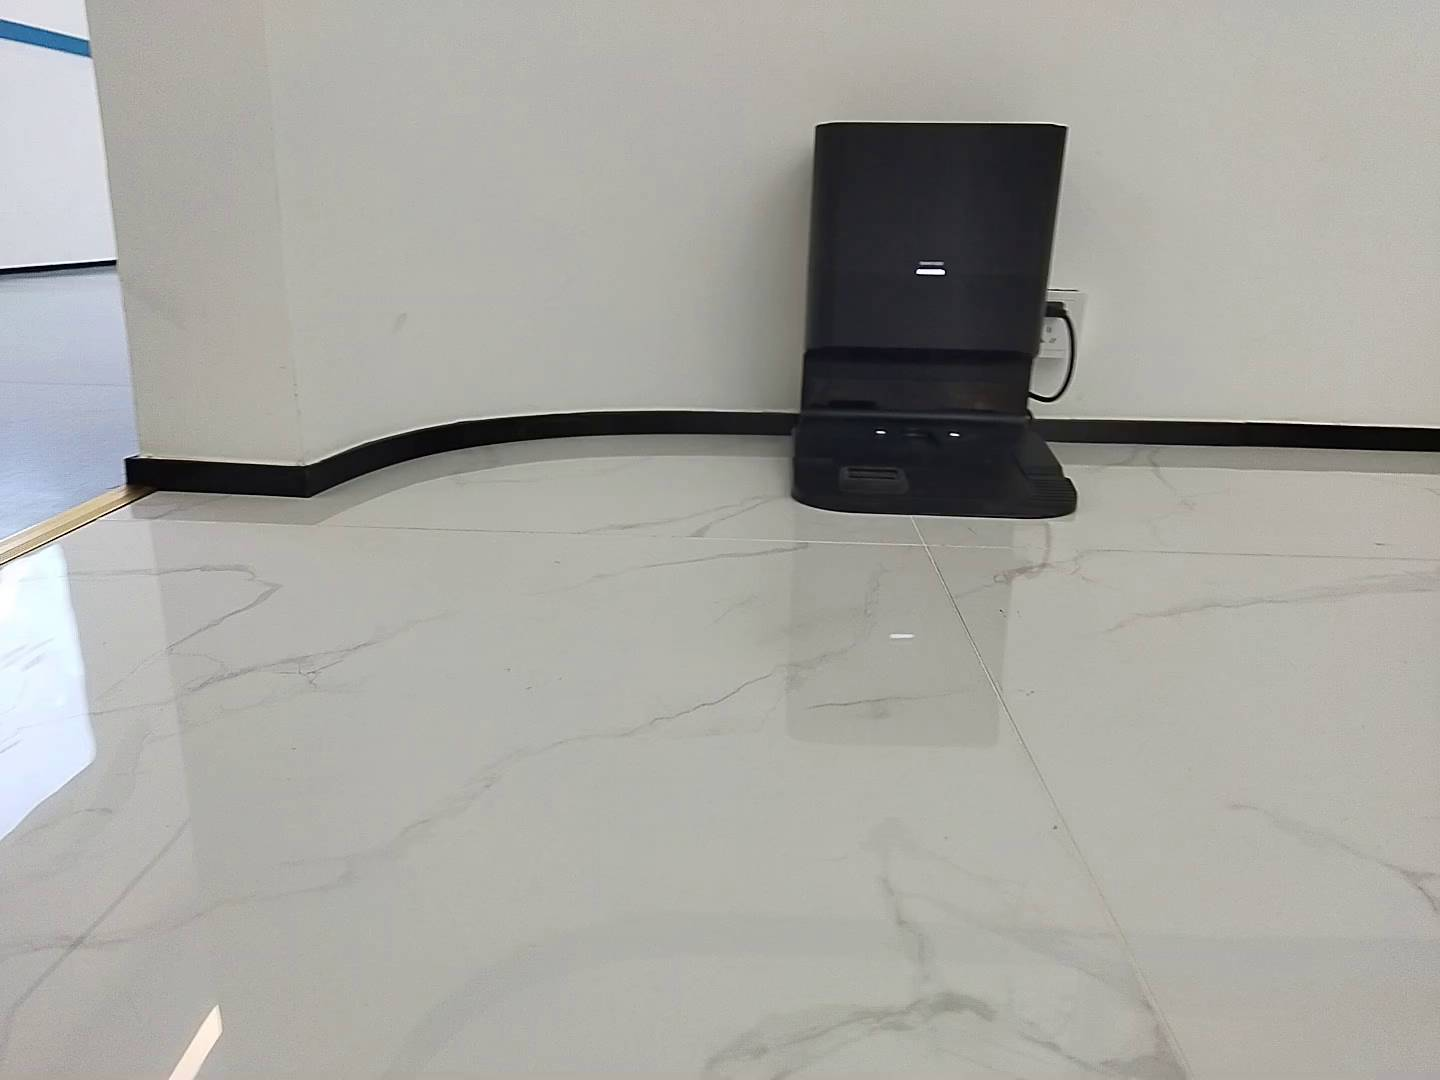dust collecting barrel: (789, 120, 1078, 518)
